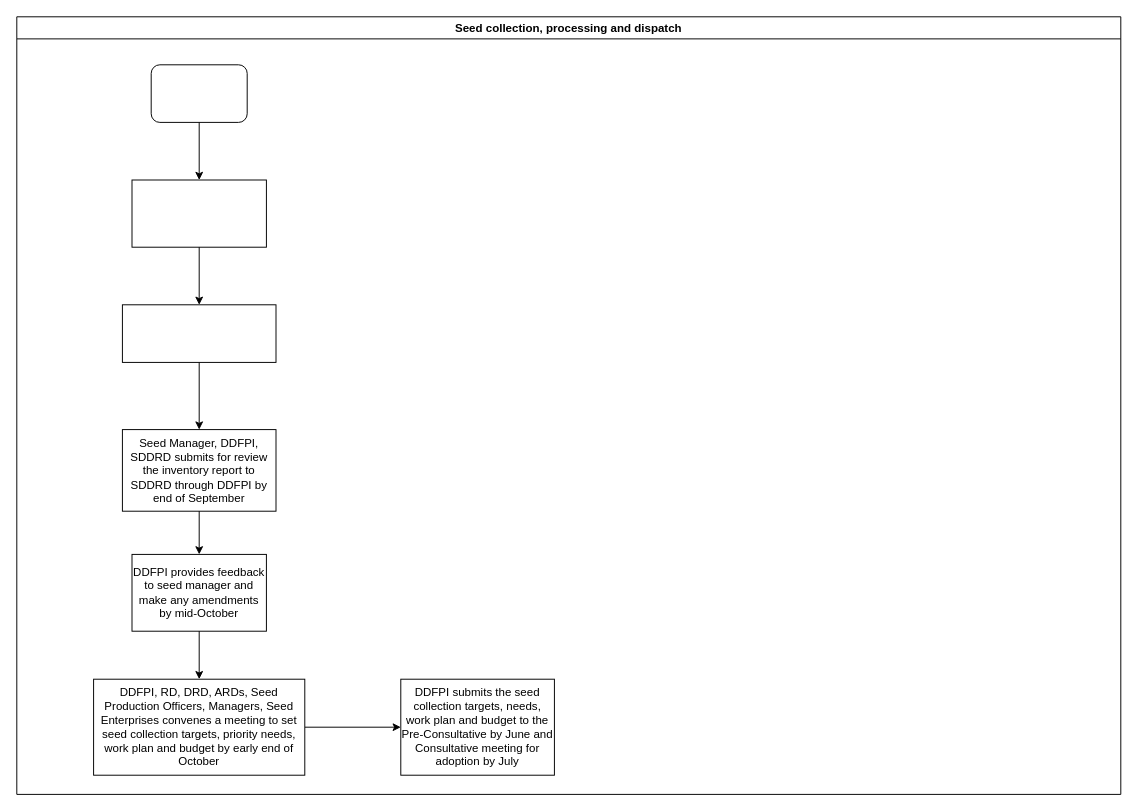
Some shapes in this 1138 by 811 pixel diagram are drawn without their labels. Each missing label, with the centre of its shape:
"SDDRD calls for setting seed collection targets and needs by August" belongs at point 198,213.
"Seed Manager undertakes inventory on seed targets and needs by mid-September" belongs at point 198,333.
"Start" belongs at point 198,93.
